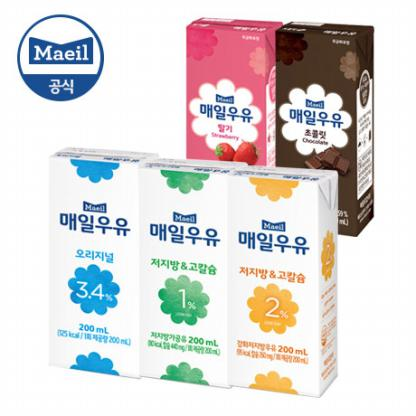tetra: (32, 136, 156, 386), (134, 146, 252, 392), (228, 155, 344, 401)
